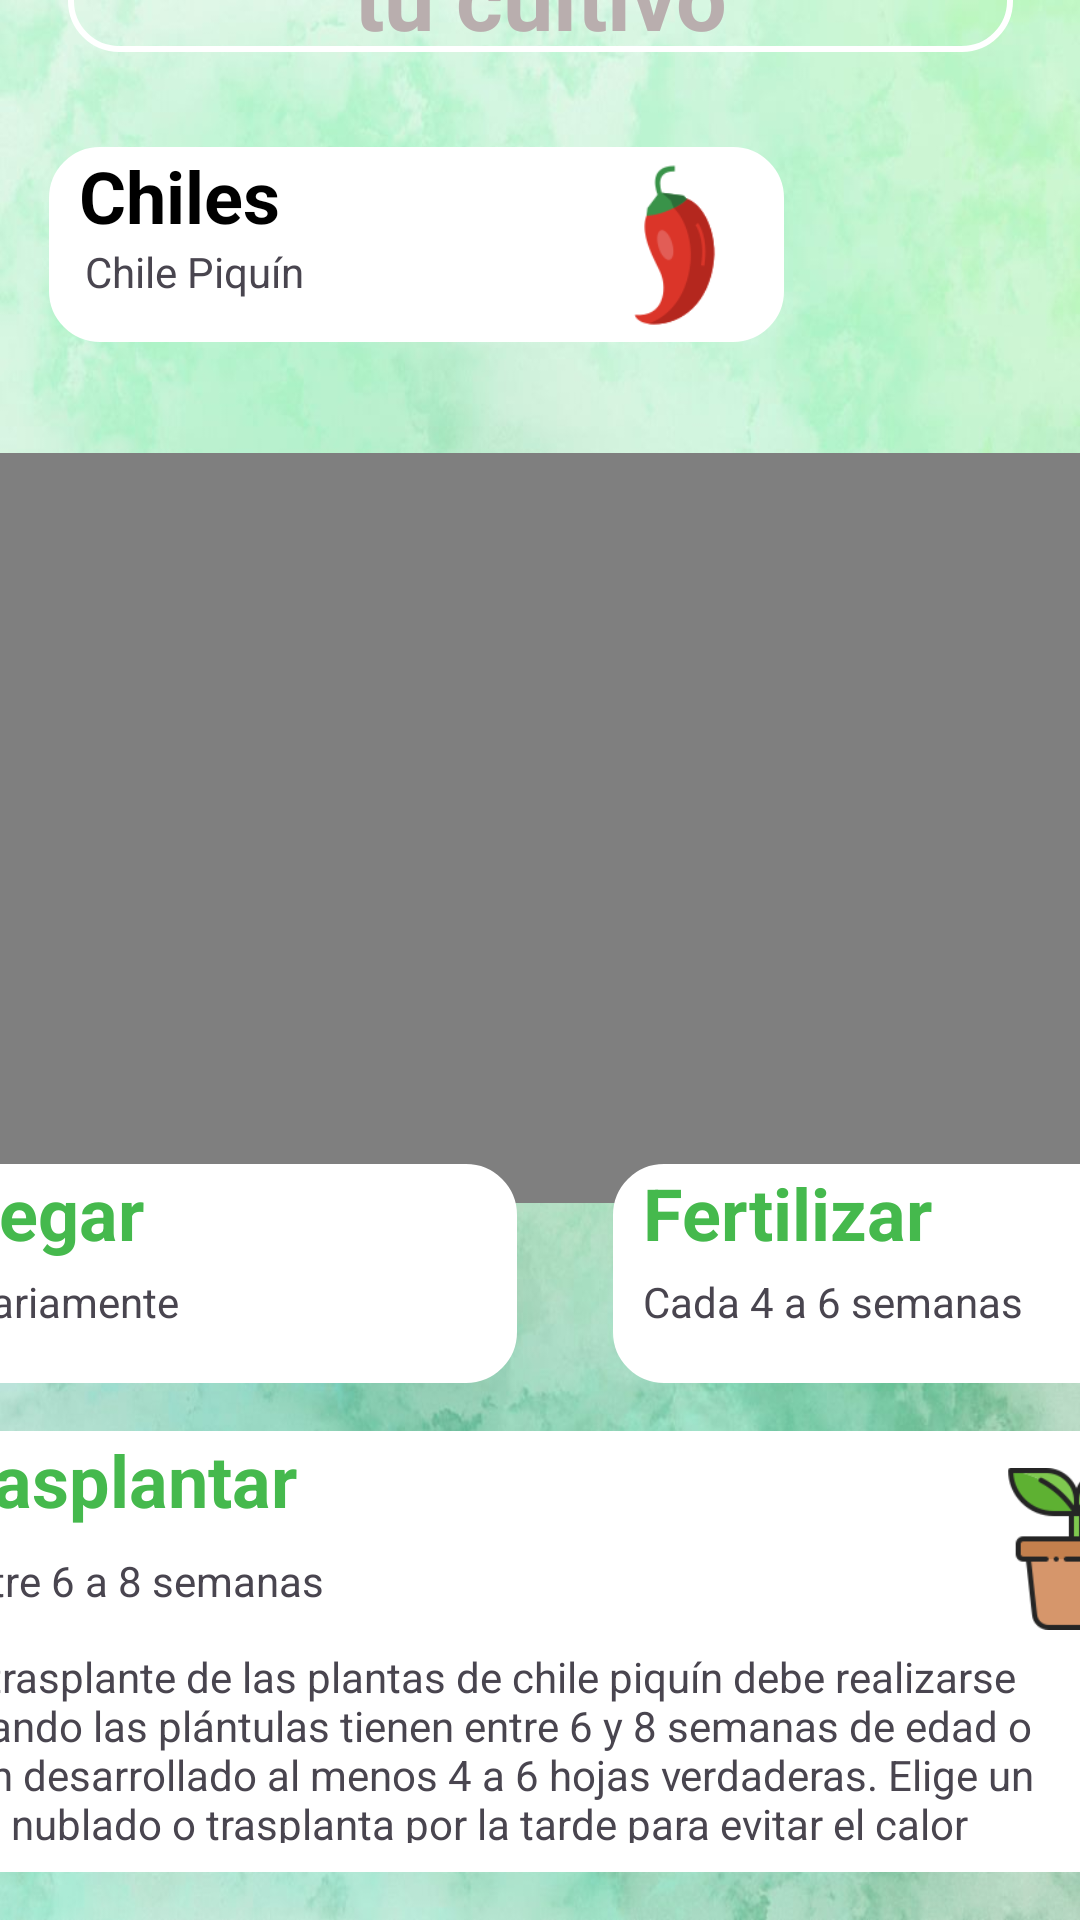

Icon bounding boxes for this 1080x1920 phone screenshot, format BBox(x1, y1, x2, y2):
chile: BBox(634, 165, 715, 325)
